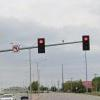traffic lights: (83, 35, 90, 52), (39, 38, 46, 54)
